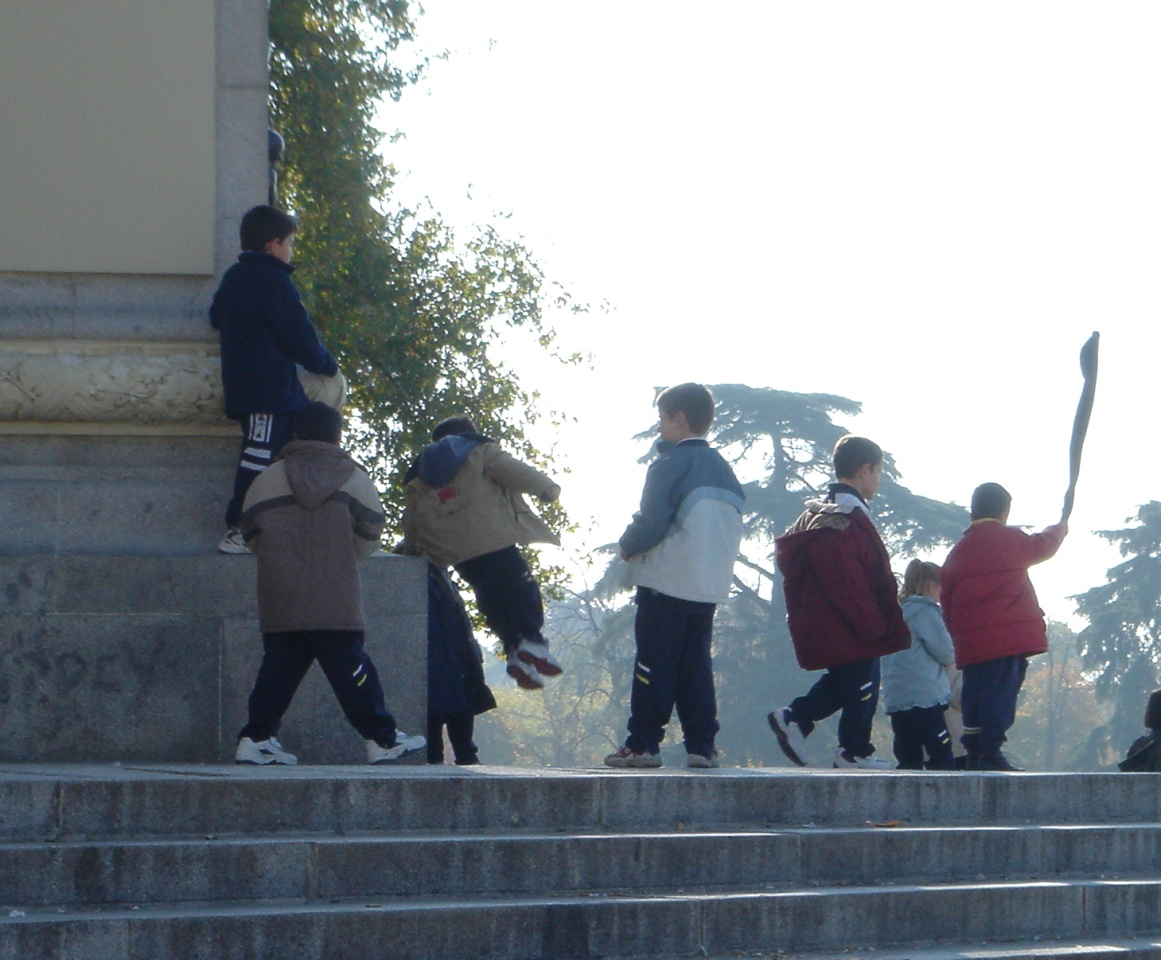person: (244, 396, 385, 767), (612, 376, 731, 775), (210, 202, 323, 557), (419, 413, 563, 689), (787, 429, 903, 768), (949, 477, 1040, 779), (883, 556, 962, 811)
